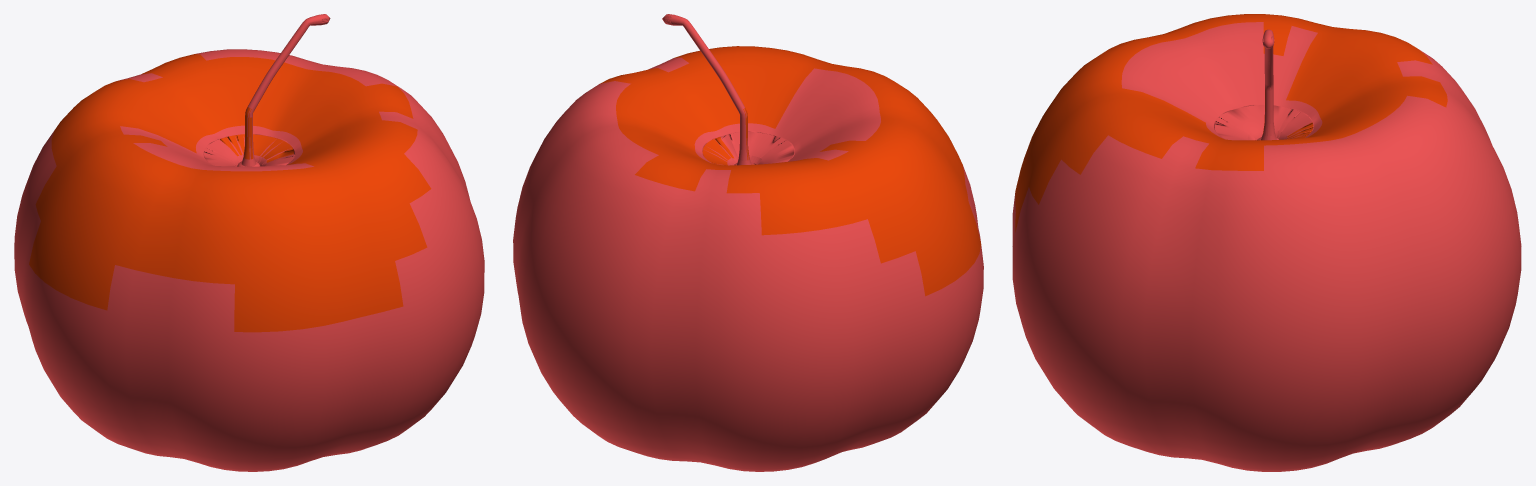
The model's file is TAMATO.fbx.
3 renders of one model, left to right at view 1: azimuth 30°, elevation 25°; view 2: azimuth 150°, elevation 25°; view 3: azimuth 270°, elevation 25°, orthographic. The views are drawn at different scales.
Parts seen in each view (by area): view 1: Sphere; view 2: Sphere; view 3: Sphere.
Part boxes in pixels (x1=…): Sphere: x1=14, y1=14, x2=484, y2=471; Sphere: x1=513, y1=14, x2=983, y2=471; Sphere: x1=1012, y1=14, x2=1521, y2=471.
Bounding box in the file's own units: 514 × 453 × 502.
